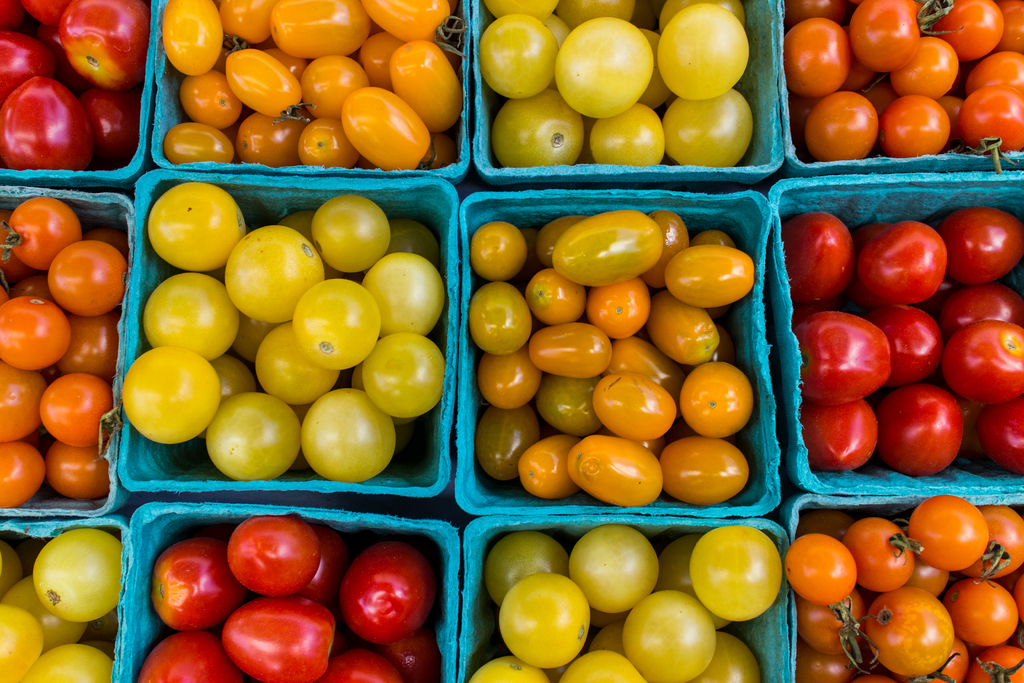Tomato: (0, 0, 1023, 682), (889, 387, 974, 480)
